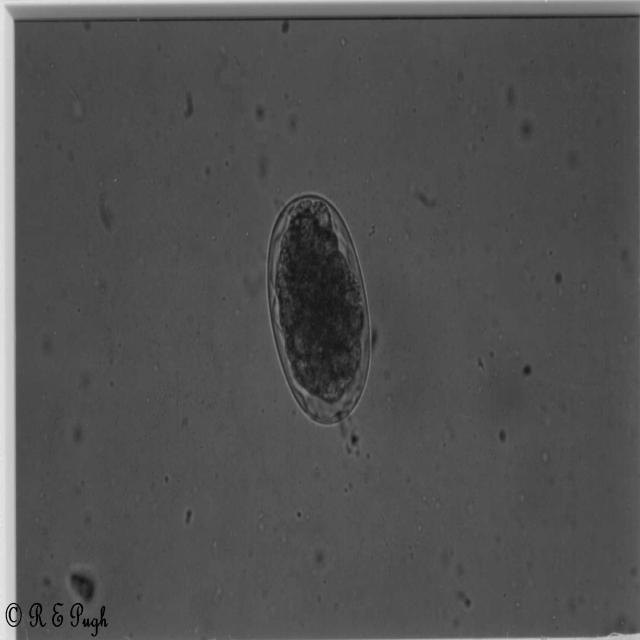Ancylostoma Spp: (262, 186, 376, 436)
